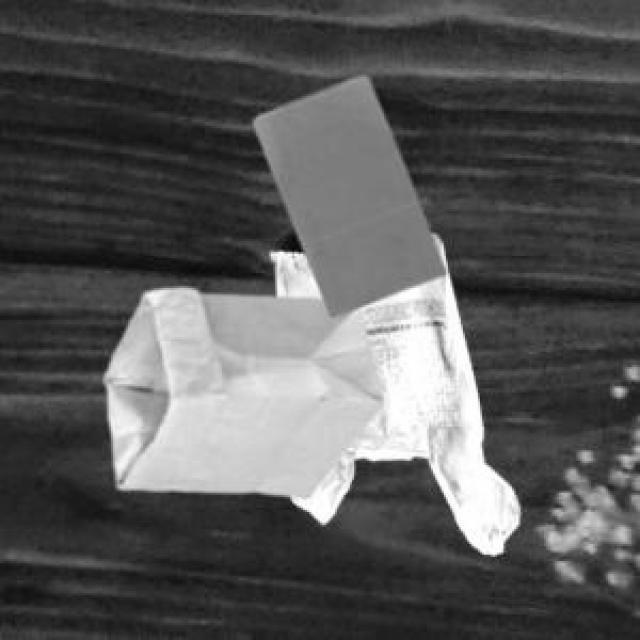paper: (100, 284, 378, 493), (250, 73, 442, 314)
